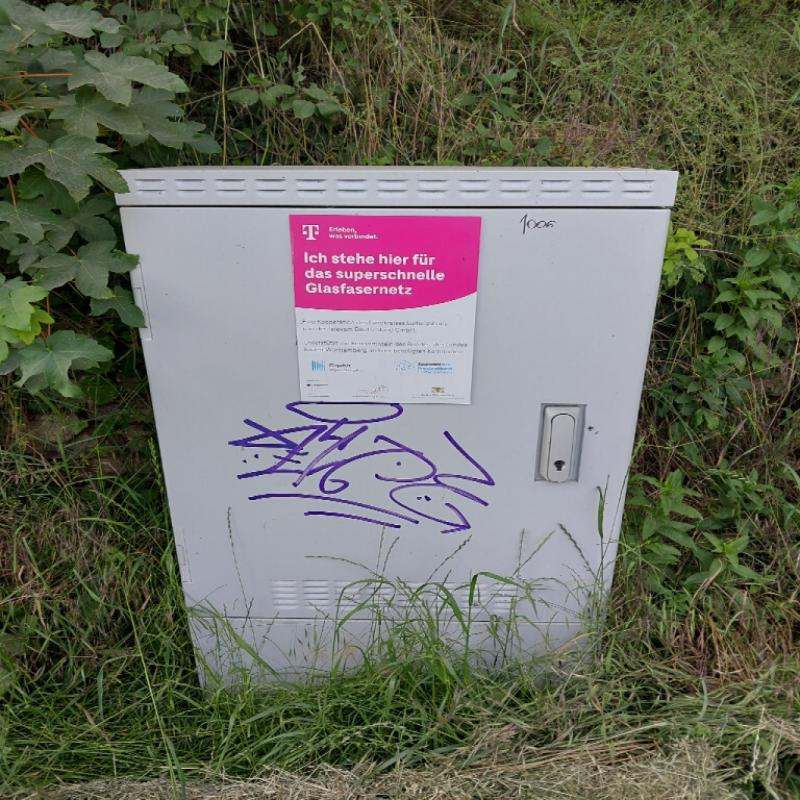NT-Gehause: (117, 173, 664, 663)
Steaker: (290, 217, 483, 407)
